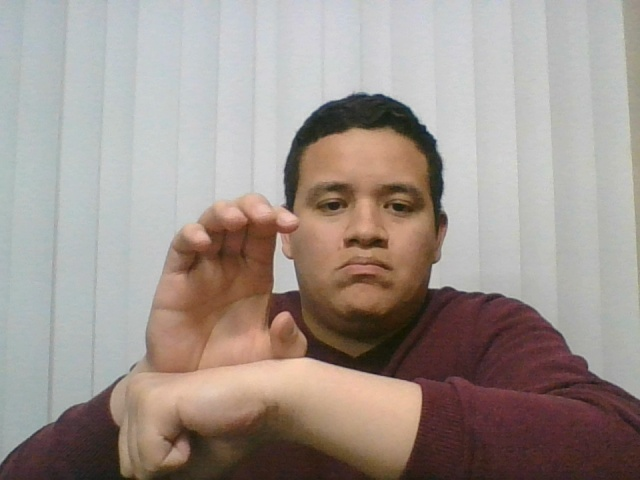Church: (97, 185, 316, 480)
